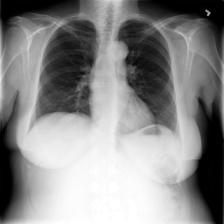normal: (23, 11, 185, 143)
